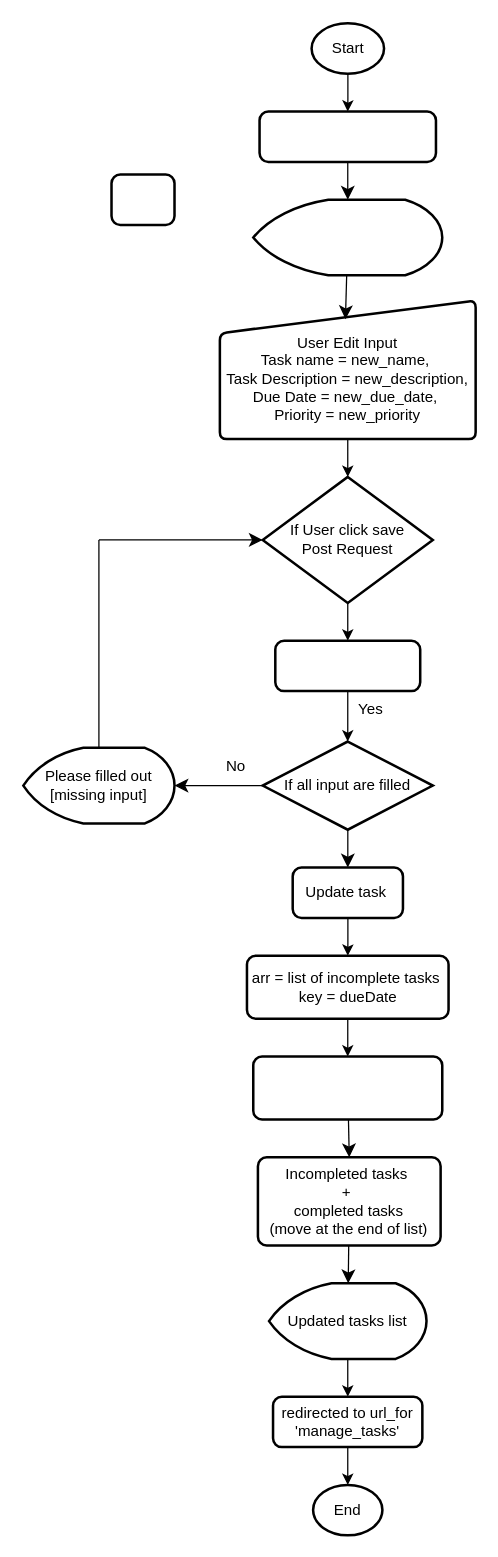
Image size: 498x1557. Some labels were removed from this diagram. The centre of each missing label's shape, as x and y in pixels:
"Edit" goes at (142,199).
"Show Edit Task Form" goes at (347,237).
"Sort tasks [Insertion sorts] by Due date" goes at (347,1087).
"User click Edit button" goes at (347,136).
"Validate form input" goes at (347,665).
